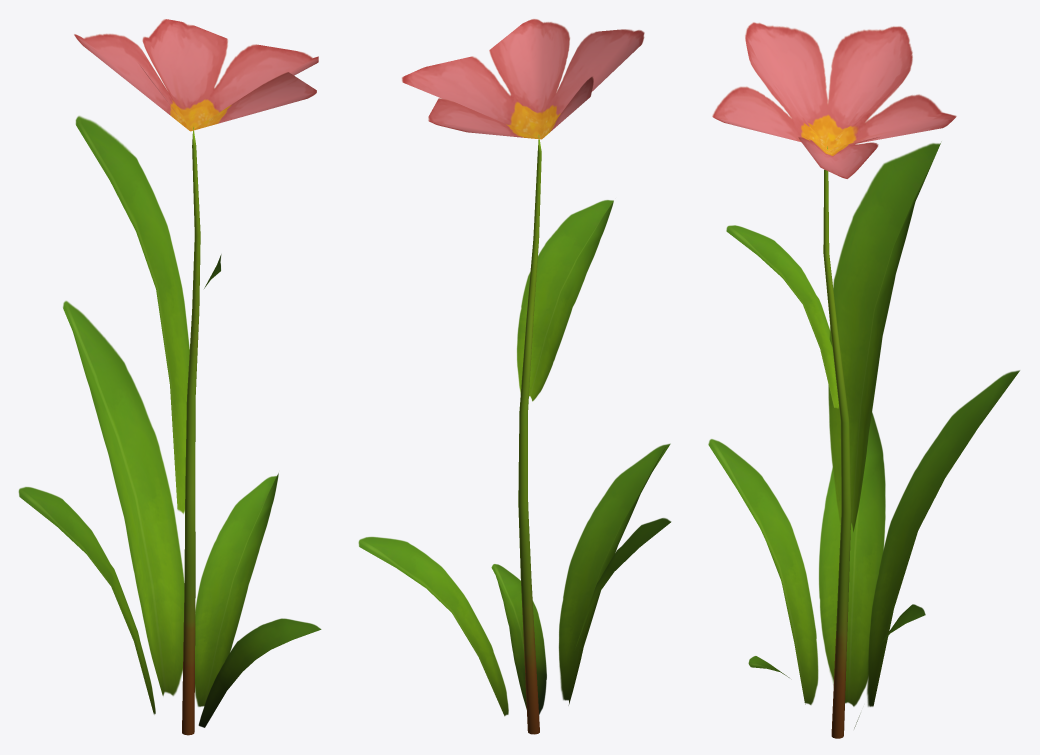
Rendered from flower_1.glb.
3 views of the same model, side by side, from view 1: azimuth 30°, elevation 25°; view 2: azimuth 150°, elevation 25°; view 3: azimuth 270°, elevation 25° (orthographic). The views are drawn at different scales.
Visible parts, largest first — view 1: Flower_3_Single; view 2: Flower_3_Single; view 3: Flower_3_Single.
Boxes of the visible parts, x1,y1,x2,y2 form: Flower_3_Single: [18, 19, 321, 735]; Flower_3_Single: [358, 19, 671, 734]; Flower_3_Single: [708, 22, 1019, 738].
Bounding box in the file's own units: 0.9066 × 2.07 × 0.8775.
2 materials, 2 textured.
